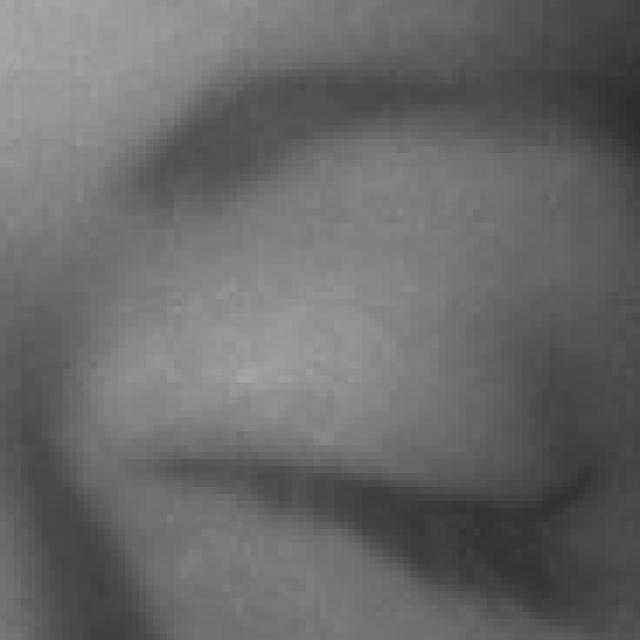Eyeclosed: (139, 271, 600, 640)
